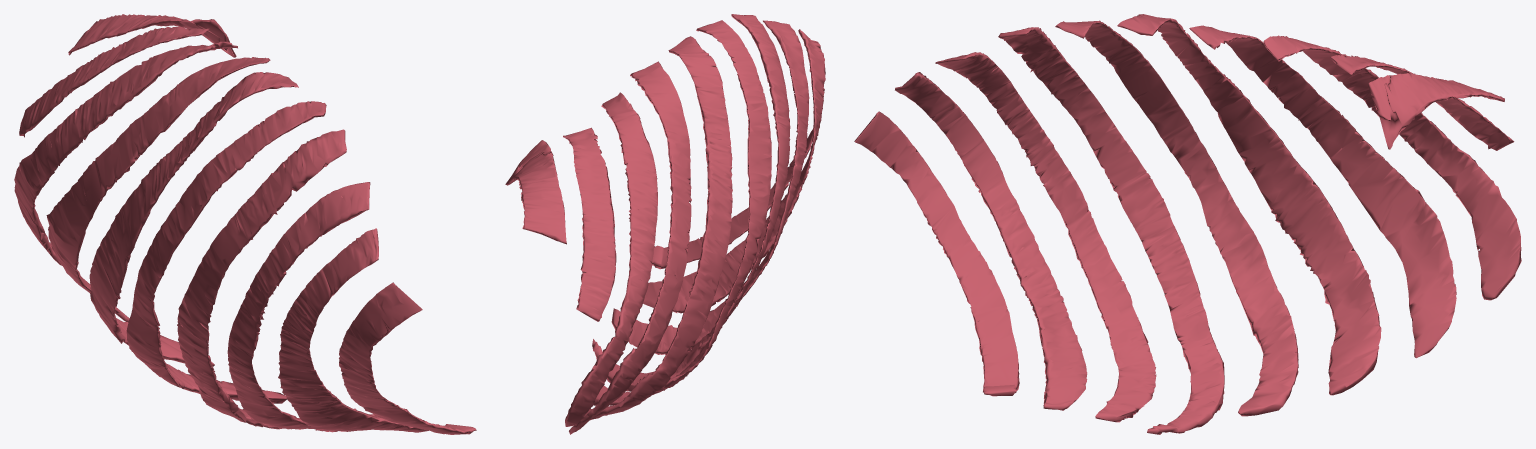
3 views of the same model, side by side, from view 1: azimuth 30°, elevation 25°; view 2: azimuth 150°, elevation 25°; view 3: azimuth 270°, elevation 25° (orthographic). The views are drawn at different scales.
Visible parts, largest first — view 1: 右侧肋间内肌; view 2: 右侧肋间内肌; view 3: 右侧肋间内肌.
Part boxes in pixels (bbox=[...]): 右侧肋间内肌: bbox=[14, 14, 476, 434]; 右侧肋间内肌: bbox=[505, 14, 825, 434]; 右侧肋间内肌: bbox=[854, 14, 1521, 434].
Size of the model in its own units: 0.1849 by 0.3036 by 0.4863.
